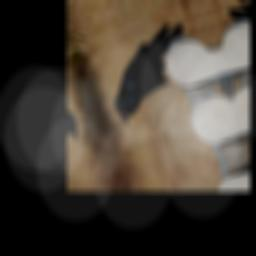Crow: (95, 19, 209, 128)
